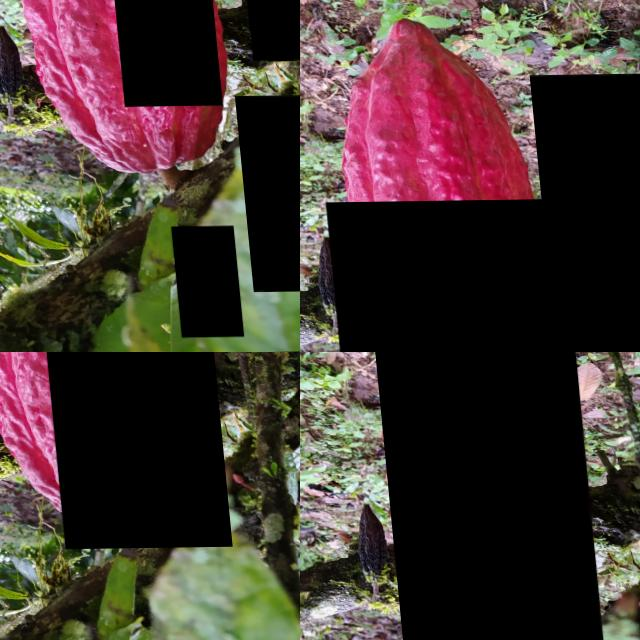Fitoftora: (235, 468, 282, 530)
Monilia: (526, 74, 640, 352)
Sana: (367, 352, 594, 640), (320, 200, 614, 352), (27, 352, 222, 550), (227, 96, 300, 293), (184, 352, 300, 463), (104, 0, 214, 107), (161, 228, 231, 339), (235, 0, 300, 63), (244, 532, 282, 598), (275, 496, 300, 593)
